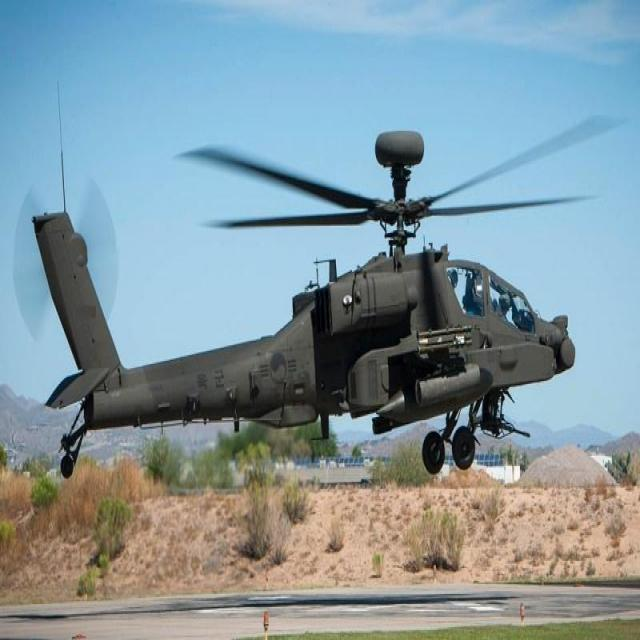MIL_HELO: (6, 109, 640, 456)
